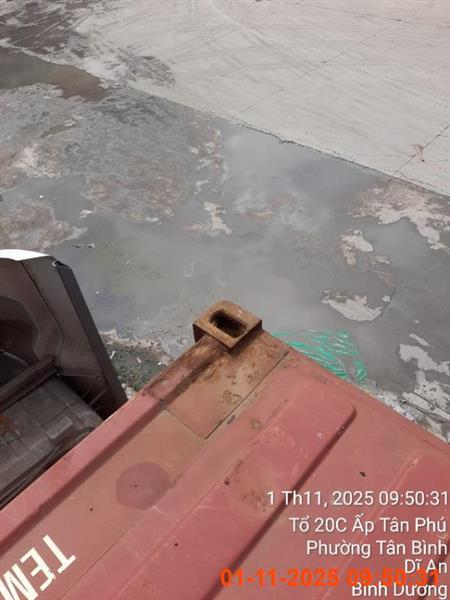hole: (0, 248, 449, 598)
